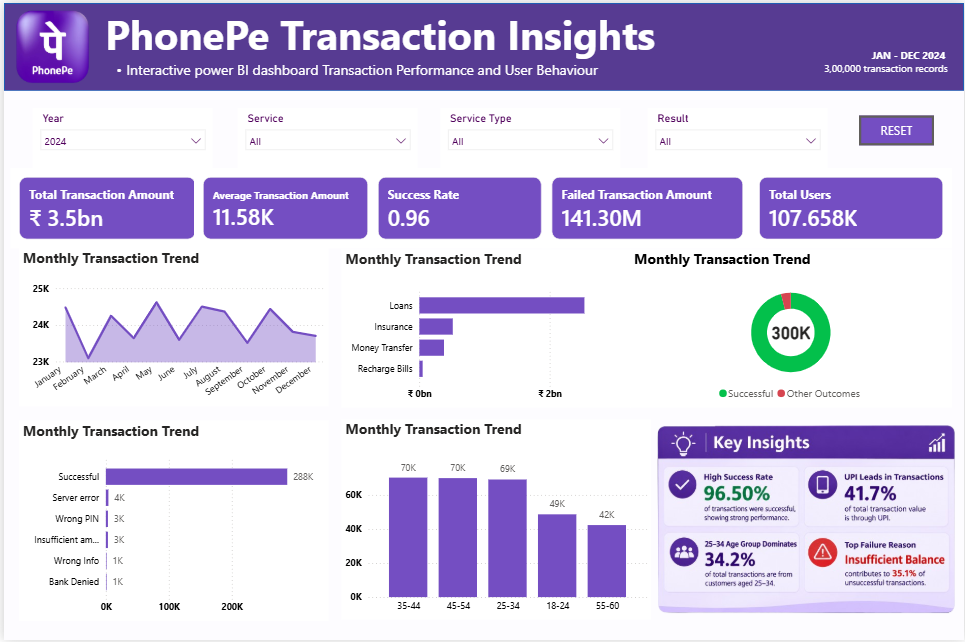

The dashboard page shown, as its layout file describes it:
{"tool":"powerbi","page":{"name":"Page 1","canvas":[1280,850],"ordinal":0},"visuals":[{"type":"cardVisual","fields":{"Data":["All_Transactions.Total Transaction Amount"]},"box":[8.4,219.6,259.4,107.4],"z":0},{"type":"cardVisual","fields":{"Data":["Count(All_Users.User_ID)"]},"box":[995.3,219.6,269,107.4],"z":1000},{"type":"cardVisual","fields":{"Data":["All_Transactions.Average Transaction Amount"]},"box":[253.4,220.8,244.9,107.4],"z":2000},{"type":"cardVisual","fields":{"Data":["All_Transactions.Success Rate"]},"box":[486.2,220.8,242.5,107.4],"z":3000},{"type":"cardVisual","fields":{"Data":["All_Transactions.Failed Transaction Amount"]},"box":[719,220.8,279.9,107.4],"z":4000},{"type":"shape","box":[0,0,1280,117.1],"z":5000},{"type":"image","box":[0,0,130,117.1],"z":6000},{"type":"textbox","box":[130,0,868.6,120],"z":7000},{"type":"textbox","box":[1075.7,55.7,188.6,61.4],"z":8000},{"type":"slicer","fields":{"Values":["All_Transactions.Year"]},"box":[38.6,139.9,240.1,79.6],"z":9000},{"type":"slicer","fields":{"Values":["All_Transactions.Service"]},"box":[312.5,139.9,240.1,79.6],"z":10000},{"type":"slicer","fields":{"Values":["All_Transactions.Service Type"]},"box":[581.5,139.9,240.1,79.6],"z":11000},{"type":"slicer","fields":{"Values":["All_Transactions.Result"]},"box":[859,139.9,240.1,79.6],"z":12000},{"type":"actionButton","box":[1140.1,150.8,100.1,39.8],"z":13000},{"type":"lineChart","title":"Monthly Transaction Trend","fields":{"Category":["All_Transactions.Date.Variation.Date Hierarchy.Month"],"Y":["All_Transactions.Successful Transactions"]},"box":[20,327.1,412.9,211.4],"z":14000},{"type":"clusteredBarChart","title":"Monthly Transaction Trend","fields":{"Category":["All_Transactions.Service"],"Y":["All_Transactions.Total Transaction Amount"]},"box":[450,328.6,385.7,211.4],"z":15000},{"type":"donutChart","title":"Monthly Transaction Trend","fields":{"Category":["All_Transactions.Payment Outcome"],"Y":["CountNonNull(All_Transactions.Transaction_ID)"]},"box":[835.7,328.6,428.6,211.4],"z":16000},{"type":"clusteredBarChart","title":"Monthly Transaction Trend","fields":{"Category":["All_Transactions.Reason"],"Y":["CountNonNull(All_Transactions.Transaction_ID)"]},"box":[20,557.1,412.9,267.1],"z":16001},{"type":"clusteredColumnChart","title":"Monthly Transaction Trend","fields":{"Category":["All_Users.Age Group"],"Y":["All_Transactions.Total Transactions"]},"box":[450,555,412.9,267.1],"z":16002},{"type":"image","box":[858.3,540,421.7,296.7],"z":16003}]}

Visuals, with their boxes in screenshot pixels (x1, y1, x2, y2), scaled from the page's 1280x850 canvas onto the 965x642 screenshot:
cardVisual - All_Transactions.Total Transaction Amount: (6, 166, 202, 247)
cardVisual - Count(All_Users.User_ID): (750, 166, 953, 247)
cardVisual - All_Transactions.Average Transaction Amount: (191, 167, 376, 248)
cardVisual - All_Transactions.Success Rate: (367, 167, 549, 248)
cardVisual - All_Transactions.Failed Transaction Amount: (542, 167, 753, 248)
shape: (0, 0, 964, 88)
image: (0, 0, 98, 88)
textbox: (98, 0, 753, 91)
textbox: (811, 42, 953, 88)
slicer - All_Transactions.Year: (29, 106, 210, 166)
slicer - All_Transactions.Service: (236, 106, 417, 166)
slicer - All_Transactions.Service Type: (438, 106, 619, 166)
slicer - All_Transactions.Result: (648, 106, 829, 166)
actionButton: (860, 114, 935, 144)
"Monthly Transaction Trend" lineChart: (15, 247, 326, 407)
"Monthly Transaction Trend" clusteredBarChart: (339, 248, 630, 408)
"Monthly Transaction Trend" donutChart: (630, 248, 953, 408)
"Monthly Transaction Trend" clusteredBarChart: (15, 421, 326, 623)
"Monthly Transaction Trend" clusteredColumnChart: (339, 419, 651, 621)
image: (647, 408, 964, 632)
